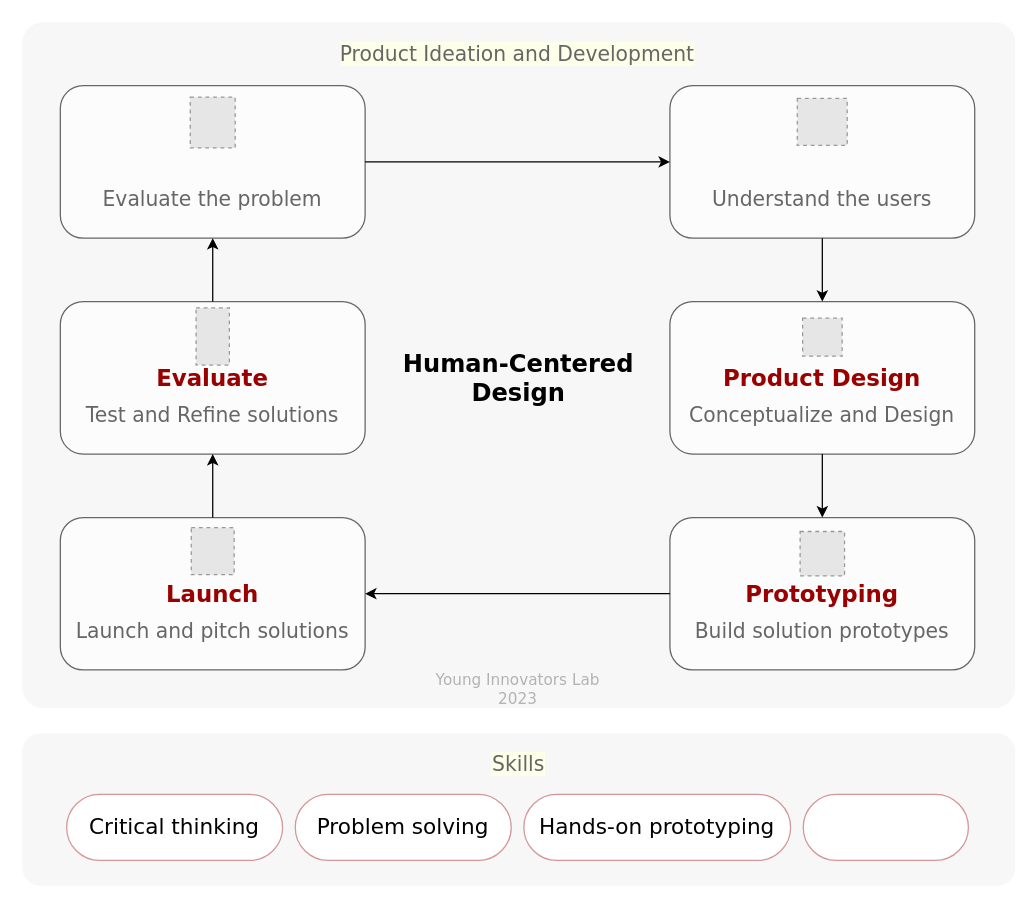
This 1036x907 diagram has some shape labels left out. Grey dashed boxes stand in for pictures. Here are the shapes that lost their labels. From the top down, the box of each, then its label:
(59, 84, 365, 238): Problem Identification
(669, 84, 975, 238): User Research
(802, 793, 968, 860): Presenting
